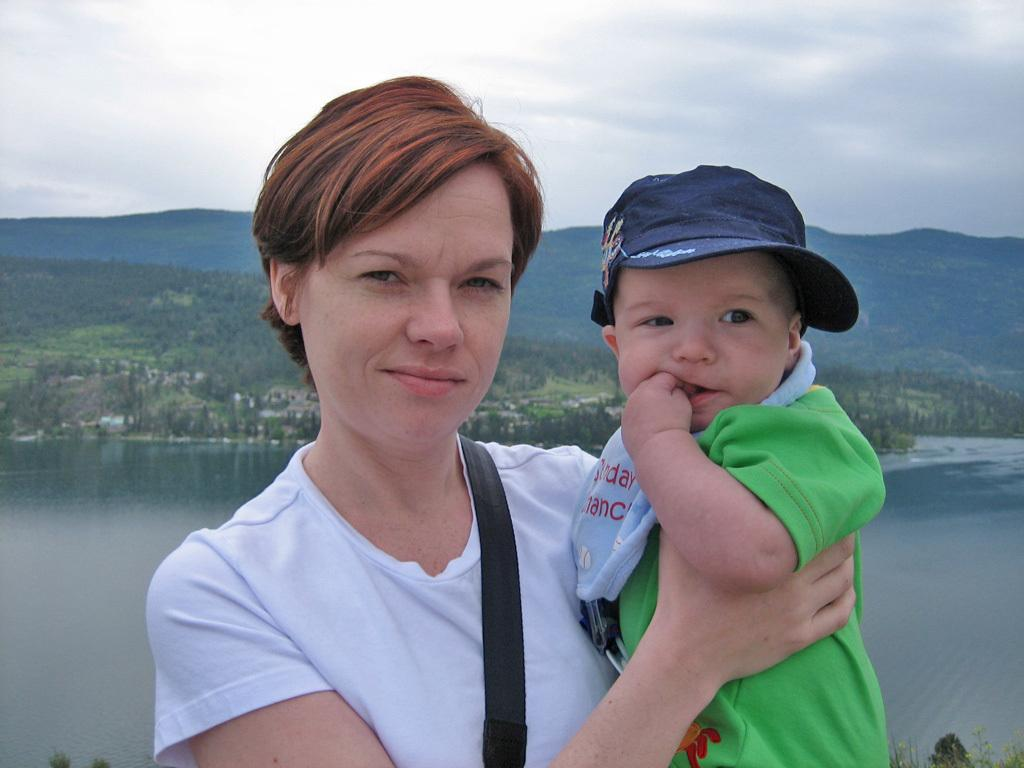Hat: (588, 164, 860, 334)
